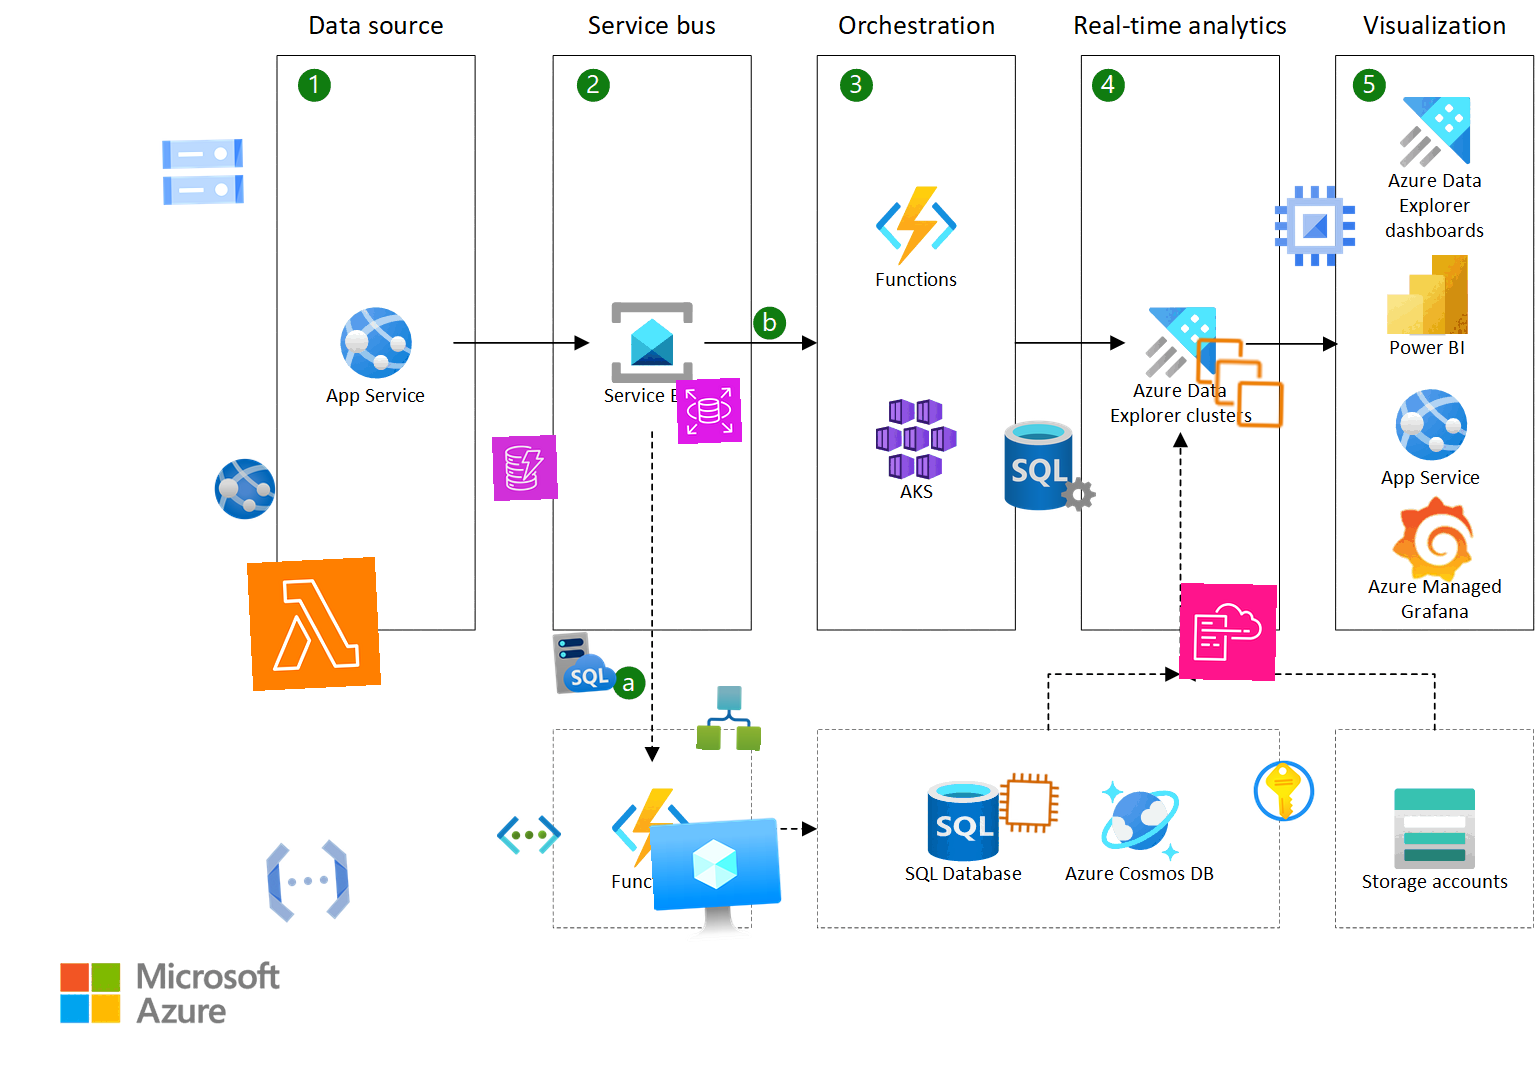aws_amazon_dynamodb: (491, 434, 559, 502)
aws_amazon_rds: (675, 377, 743, 445)
aws_cloudformation: (1179, 583, 1277, 681)
aws_ec2_instance: (995, 769, 1063, 837)
aws_ec2_instances: (1191, 333, 1290, 432)
aws_lambda: (246, 556, 382, 692)
azure_app_services: (212, 456, 278, 522)
azure_key_vaults: (1250, 757, 1318, 825)
azure_logic_apps: (696, 684, 762, 751)
azure_sql_managed_instance: (550, 627, 620, 697)
azure_sql_server: (1001, 417, 1099, 515)
azure_virtual_machine: (649, 816, 785, 952)
azure_virtual_networks: (496, 802, 562, 869)
gcp_cloud_functions: (255, 829, 360, 933)
gcp_cloud_storage: (153, 122, 253, 222)
gcp_compute_engine: (1265, 177, 1364, 275)
